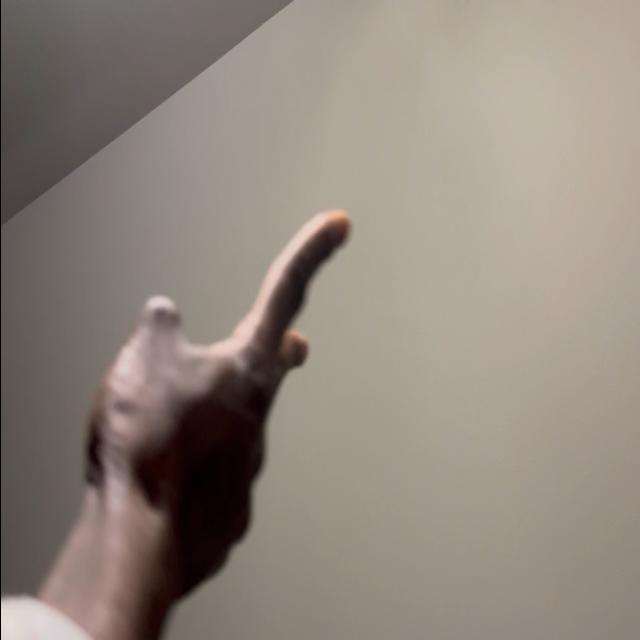Scissors: (70, 212, 352, 602)
